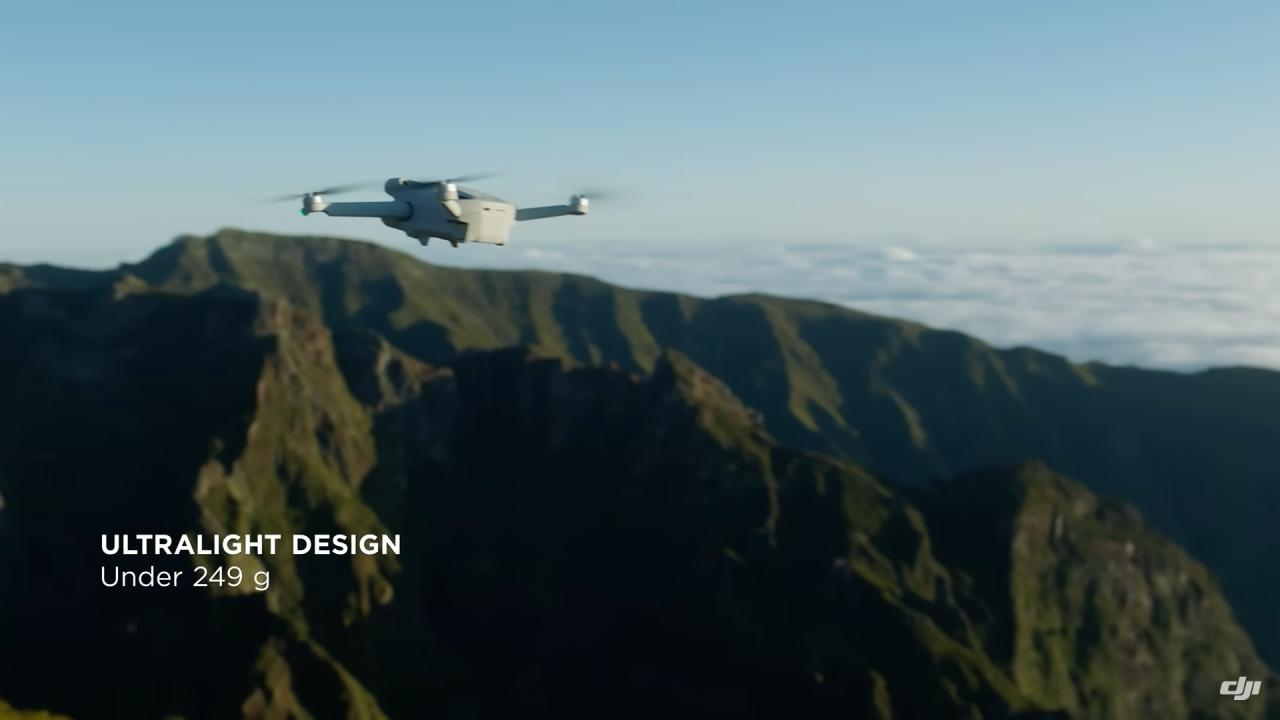Drone: (263, 156, 636, 257)
